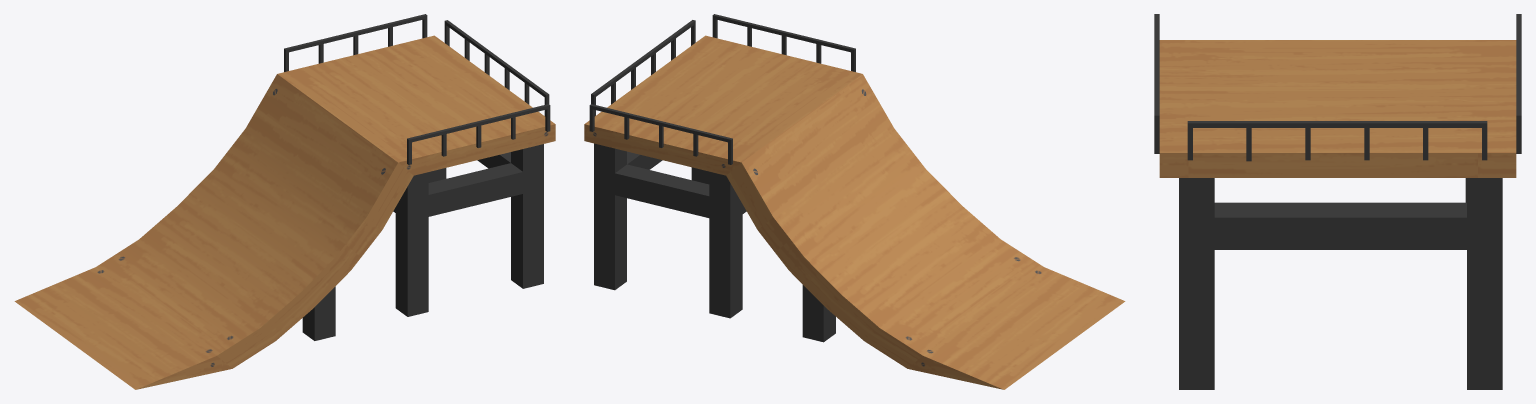
The model's file is StartRamp.fbx.
3 views of the same model, side by side, from view 1: azimuth 30°, elevation 25°; view 2: azimuth 150°, elevation 25°; view 3: azimuth 270°, elevation 25° (orthographic). The views are drawn at different scales.
Visible parts, largest first — view 1: StartRamp; view 2: StartRamp; view 3: StartRamp.
Part boxes in pixels (x1,y1,x2,y2): StartRamp: (14,14,555,389); StartRamp: (584,14,1125,389); StartRamp: (1154,14,1521,389).
Size of the model in its own units: 807 by 342 by 412.
